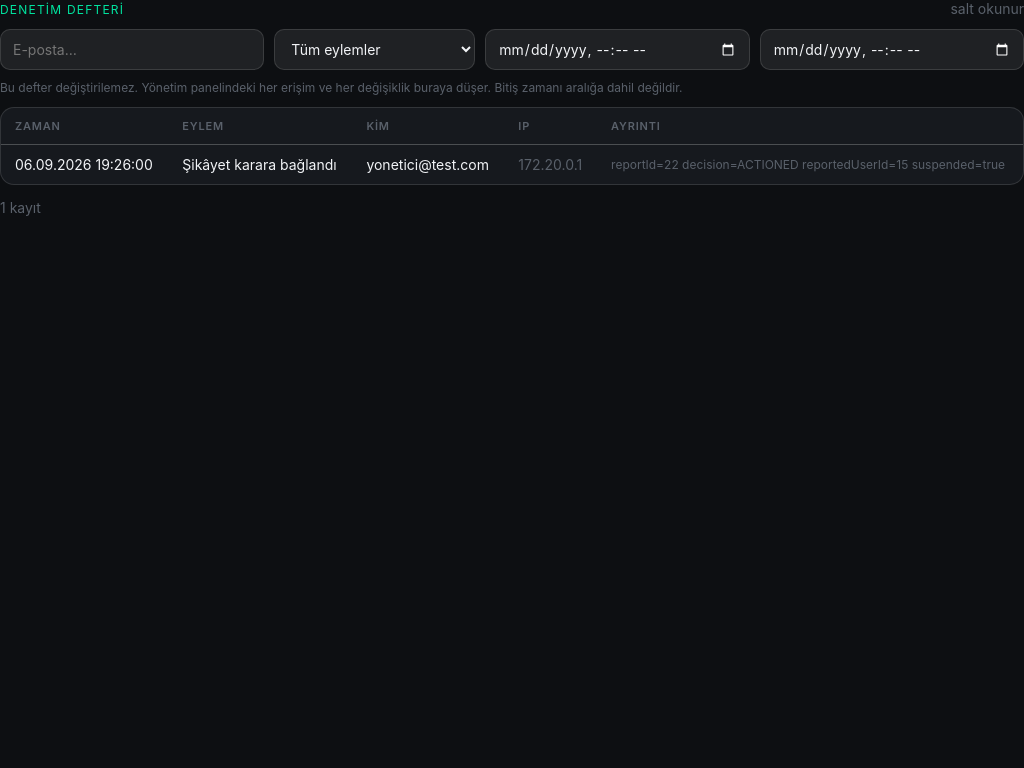
Test case: AuditPage Bileşen Testleri › satıra tıklanınca ayrıntı çekmecede tam açılır
Expected: the text "yonetici@test.com" is shown, [352,144,504,184]
Click the row that starts with "Şikâyet karara bağlandı": (84, 164) [1,144,1023,184]
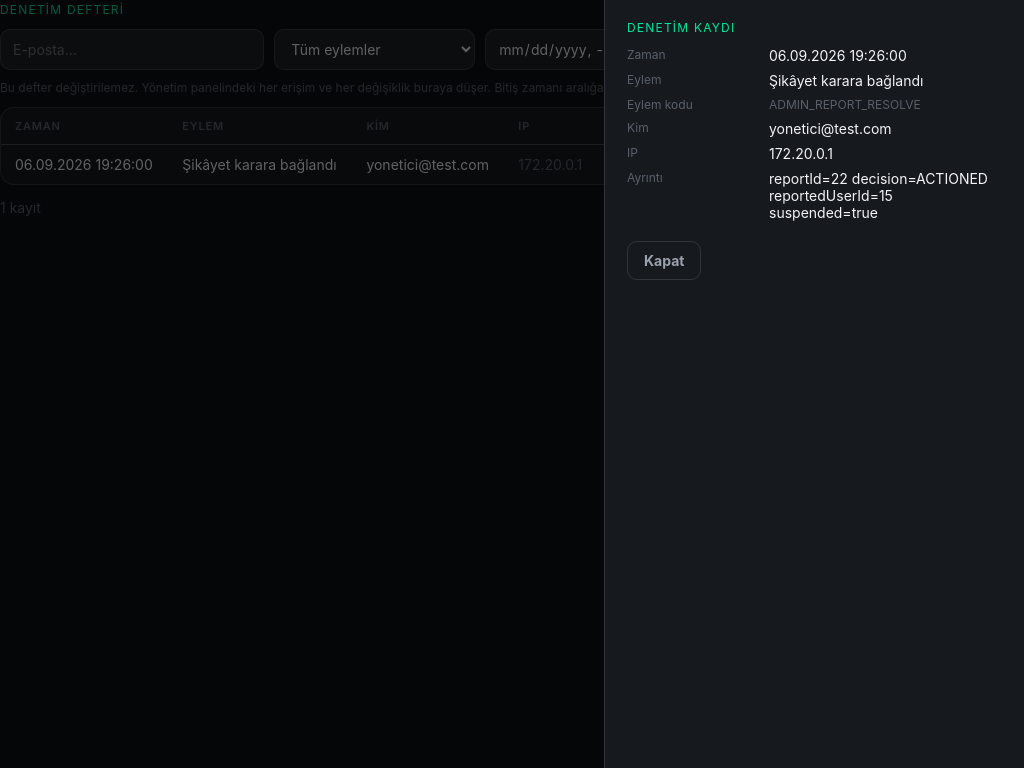
Expected: the text "reportId=22 decision=ACTIONED reportedUserId=15 suspended=true" is shown 2 times, [597,144,1023,184]; [769,170,1002,221]
Expected: the text "Denetim kaydı" is shown, [627,20,735,35]
